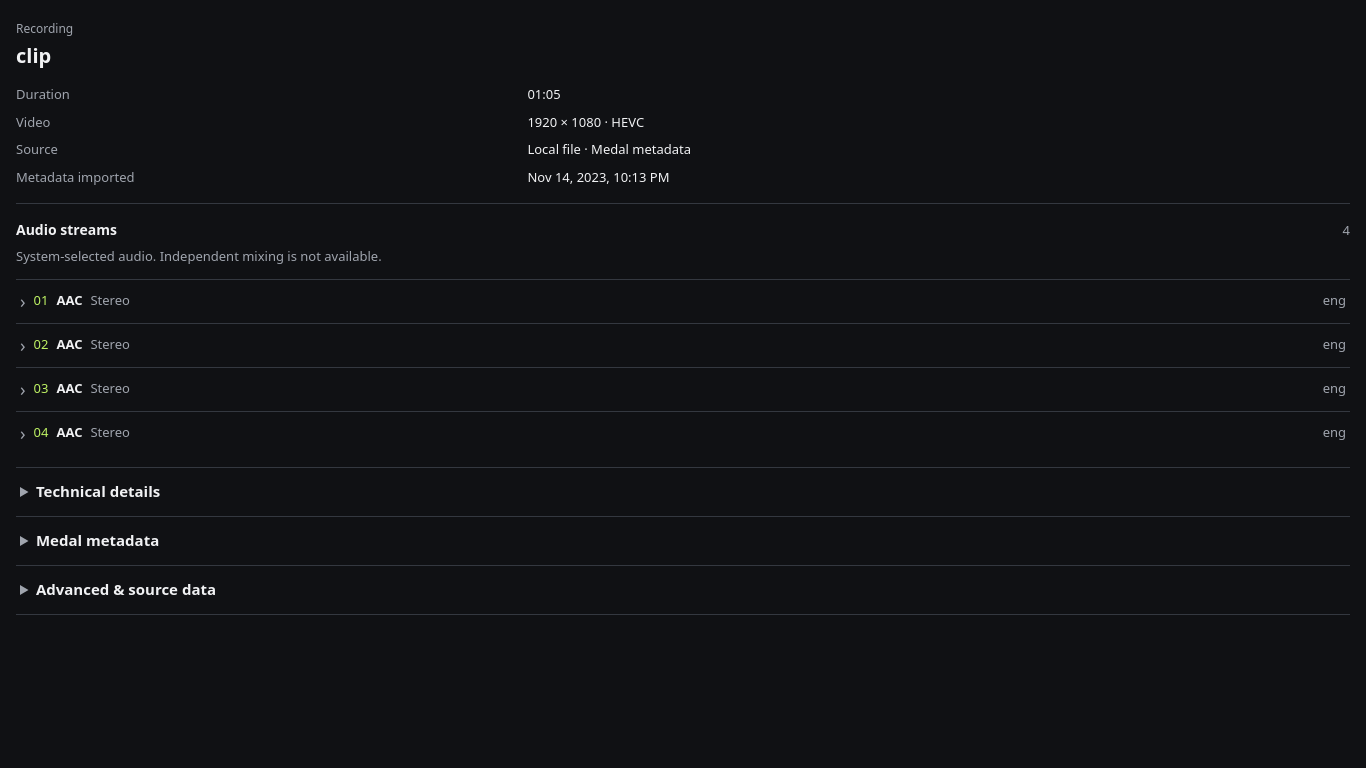
Test: does not use related edit metadata as the original recording's title or game
The width and height of the screenshot is (1366, 768).
Expected: the header shows "clip", [16, 42, 51, 69]
Click the heading "Medal metadata" at (98, 540), box [36, 530, 159, 550]
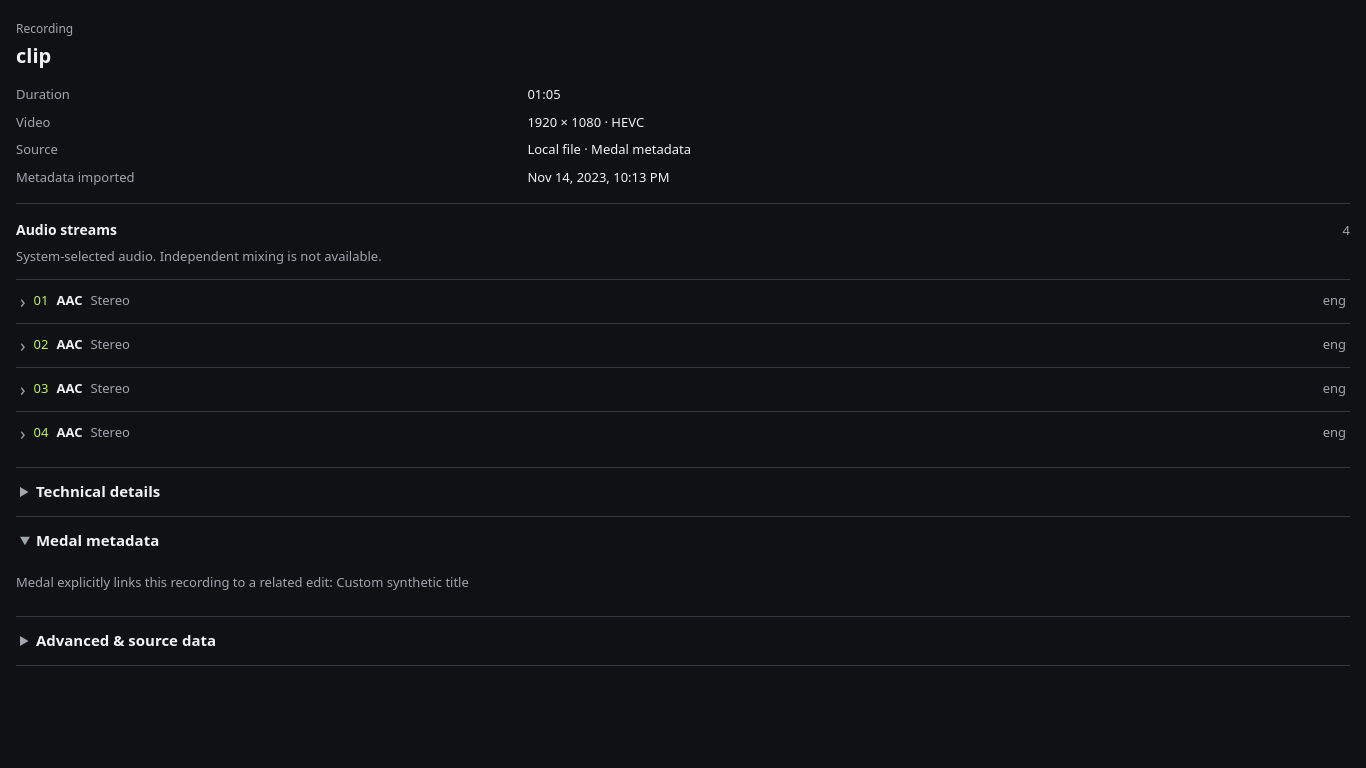
Result: the text "explicitly links this recording to a related edit" is shown at [16, 572, 329, 590]
